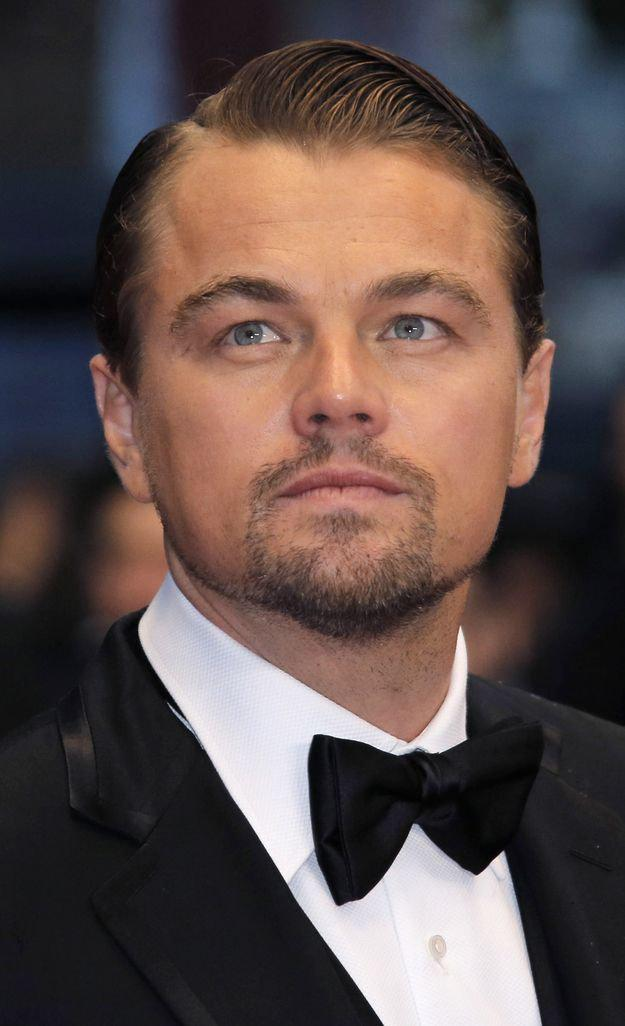Sober: (165, 154, 502, 574)
